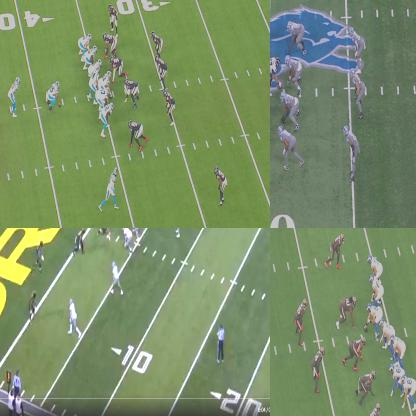CENTER: (364, 298, 380, 336), (270, 60, 283, 92), (102, 69, 115, 88)
DB: (346, 125, 359, 182), (216, 167, 227, 204), (29, 289, 38, 324), (36, 241, 46, 272), (108, 6, 119, 30), (370, 402, 381, 415)
LB: (350, 68, 368, 125), (350, 27, 366, 66), (296, 296, 308, 340), (312, 346, 322, 390), (157, 56, 167, 90), (166, 90, 176, 123), (74, 228, 87, 252), (154, 30, 166, 55)
QB: (90, 64, 101, 102), (174, 228, 182, 237)
SKILL: (105, 168, 118, 209), (400, 377, 415, 411), (45, 82, 59, 111), (9, 78, 19, 115), (113, 261, 123, 295), (390, 364, 402, 392), (70, 298, 78, 334), (76, 33, 92, 47)
